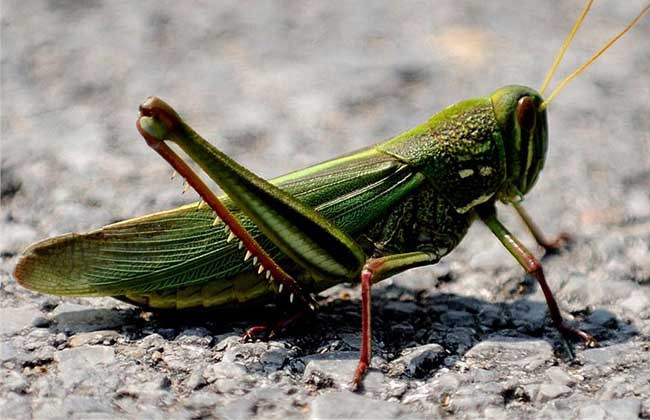huangchong: (37, 81, 584, 379)
